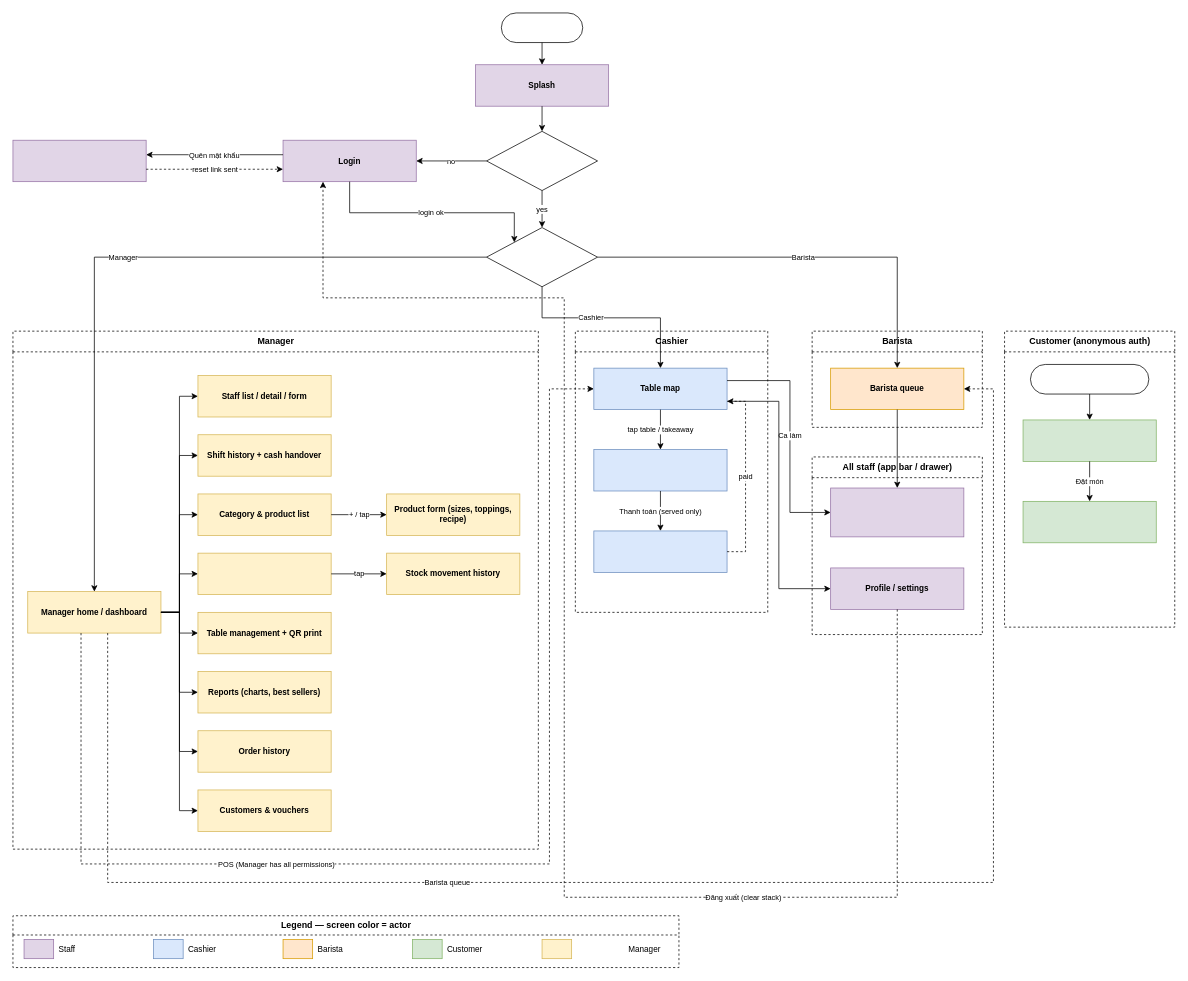
The diagram is 1188 pixels wide and 981 high, and some of its shapes have lost their labels. The centre of each missing label's shape, as x and y in pixels:
"App launch" goes at [542,27].
"Customer menu (via QR)" goes at [1089,440].
"Customer order status" goes at [1089,522].
"Forgot password" goes at [79,160].
"Ingredient list / form / stocktake" goes at [264,573].
"My shift (check-in/out, cash handover, shop QR scan P2)" goes at [897,512].
"Order editor (menu + cart)" goes at [660,470].
"Payment" goes at [660,551].
"Role?" goes at [542,257].
"Scan table QR (phone camera)" goes at [1089,379].
"Session valid?" goes at [542,161].
